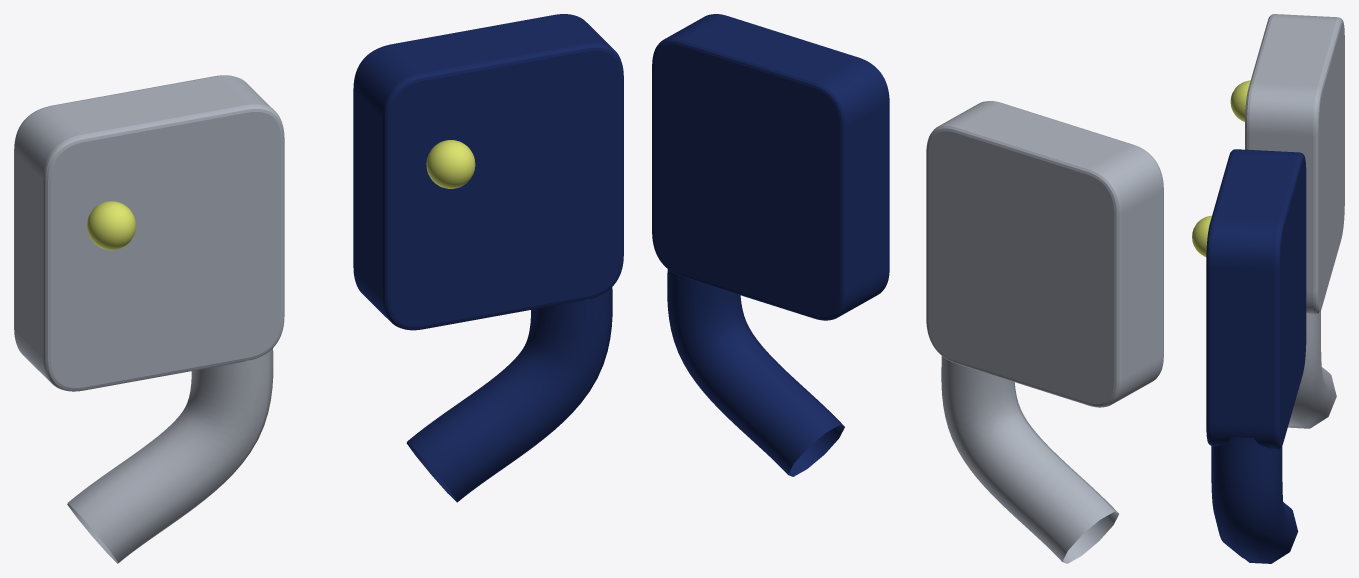
3 views of the same model, side by side, from view 1: azimuth 30°, elevation 25°; view 2: azimuth 150°, elevation 25°; view 3: azimuth 270°, elevation 25° (orthographic). The views are drawn at different scales.
Parts seen in each view (by area): view 1: quote body (×2), quote tail (×2), signal node (×2); view 2: quote body (×2), quote tail (×2); view 3: quote body (×2), quote tail (×2), signal node (×2).
Part boxes in pixels (x1=…): quote body (×2): x1=14, y1=14, x2=623, y2=391; quote tail (×2): x1=67, y1=287, x2=612, y2=563; signal node (×2): x1=87, y1=140, x2=475, y2=250; quote body (×2): x1=652, y1=14, x2=1163, y2=407; quote tail (×2): x1=667, y1=269, x2=1118, y2=563; quote body (×2): x1=1206, y1=14, x2=1344, y2=449; quote tail (×2): x1=1211, y1=311, x2=1336, y2=563; signal node (×2): x1=1192, y1=80, x2=1250, y2=256.
Size of the model in its own units: 1.55 by 1.2 by 0.4269.
